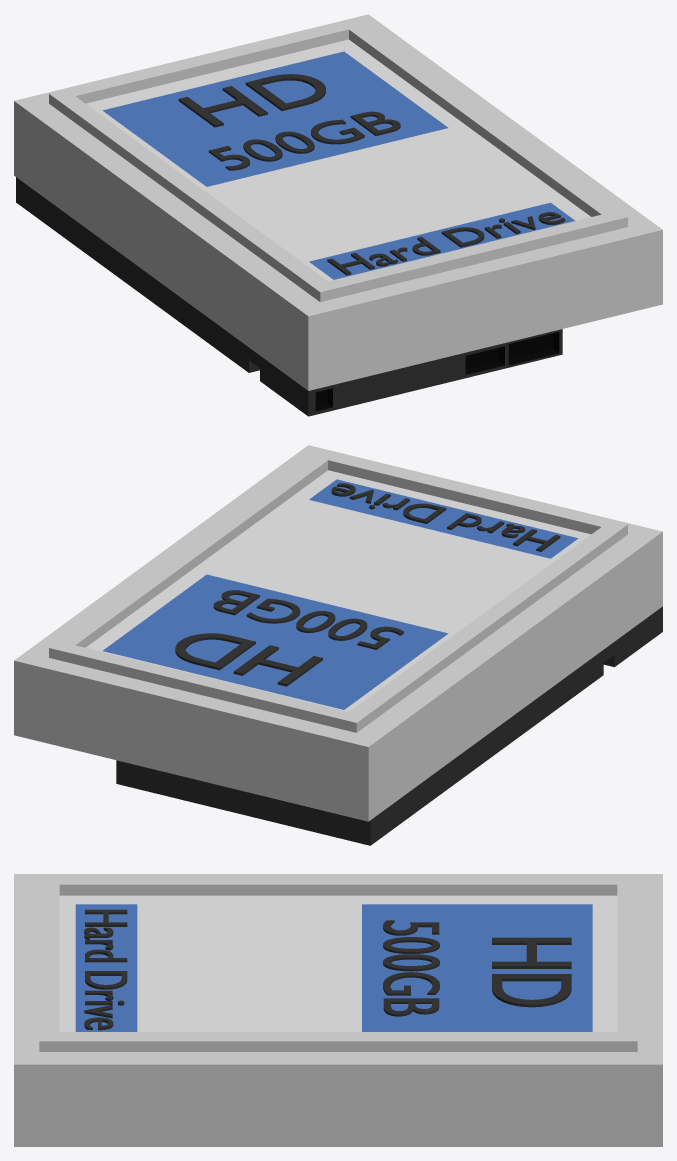
Rendered from Low lvl hard drive.fbx.
3 views of the same model, one above another, from view 1: azimuth 30°, elevation 25°; view 2: azimuth 150°, elevation 25°; view 3: azimuth 270°, elevation 25° (orthographic). The views are drawn at different scales.
Parts seen in each view (by area): view 1: Cube.009, Cube.001, Retopo_Text.002, Retopo_Text, Retopo_Text.001; view 2: Cube.009, Cube.001, Retopo_Text.002, Retopo_Text, Retopo_Text.001; view 3: Cube.009, Retopo_Text.002, Retopo_Text, Retopo_Text.001.
Part boxes in pixels (x1=…): Cube.009: x1=14, y1=14, x2=662, y2=390; Cube.001: x1=16, y1=177, x2=562, y2=416; Retopo_Text.002: x1=208, y1=111, x2=400, y2=170; Retopo_Text: x1=178, y1=74, x2=325, y2=127; Retopo_Text.001: x1=327, y1=212, x2=565, y2=275; Cube.009: x1=14, y1=445, x2=662, y2=821; Cube.001: x1=116, y1=606, x2=662, y2=845; Retopo_Text.002: x1=213, y1=590, x2=403, y2=649; Retopo_Text: x1=175, y1=633, x2=322, y2=686; Retopo_Text.001: x1=331, y1=483, x2=560, y2=551; Cube.009: x1=14, y1=874, x2=662, y2=1146; Retopo_Text.002: x1=383, y1=920, x2=439, y2=1016; Retopo_Text: x1=492, y1=937, x2=571, y2=1007; Retopo_Text.001: x1=84, y1=909, x2=127, y2=1030.
Size of the model in its own units: 186 by 55.38 by 268.
